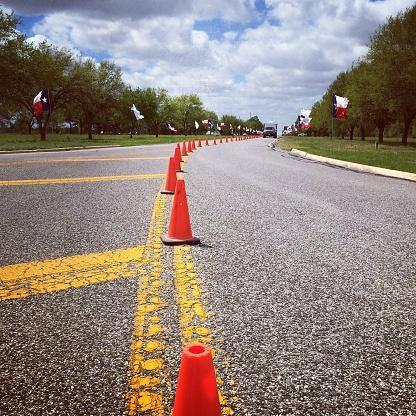Cone: (169, 344, 222, 416), (159, 178, 198, 243), (159, 156, 179, 196), (173, 145, 184, 171), (181, 140, 188, 156), (190, 138, 196, 150), (187, 138, 191, 152), (192, 137, 196, 149), (197, 138, 201, 146), (205, 137, 208, 146), (213, 137, 216, 143), (220, 137, 222, 143)
